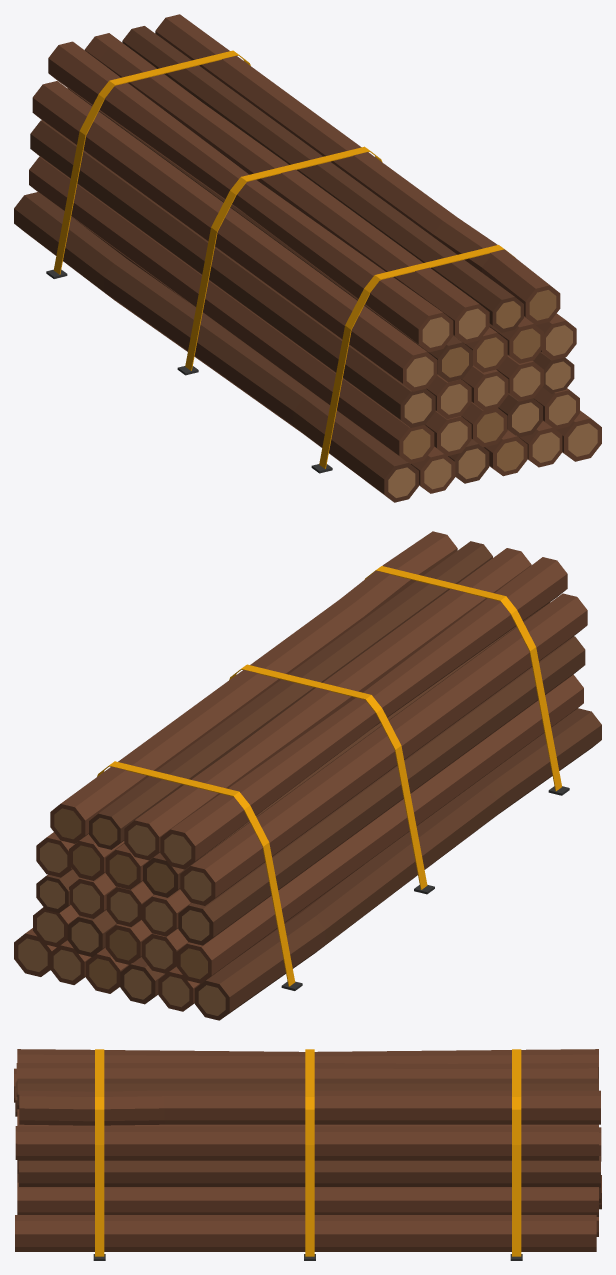
File: SM_Vehicles_TrainPart_01.fbx
3 renders of one model, top to bottom at view 1: azimuth 30°, elevation 25°; view 2: azimuth 150°, elevation 25°; view 3: azimuth 270°, elevation 25°, orthographic. The views are drawn at different scales.
Parts seen in each view (by area): view 1: SM_Vehicles_TrainPart_01; view 2: SM_Vehicles_TrainPart_01; view 3: SM_Vehicles_TrainPart_01.
Boxes of the visible parts, left/top/right/bottom form: SM_Vehicles_TrainPart_01: left=14, top=14, right=601, bottom=502; SM_Vehicles_TrainPart_01: left=14, top=531, right=601, bottom=1020; SM_Vehicles_TrainPart_01: left=14, top=1049, right=601, bottom=1260.
Bounding box in the file's own units: 3.26 × 2.26 × 8.53.
